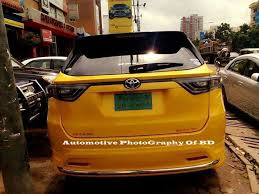car: (217, 54, 259, 121)
rickshaw: (215, 48, 230, 66)
taxi: (46, 30, 226, 178)
truck: (197, 40, 226, 62)
